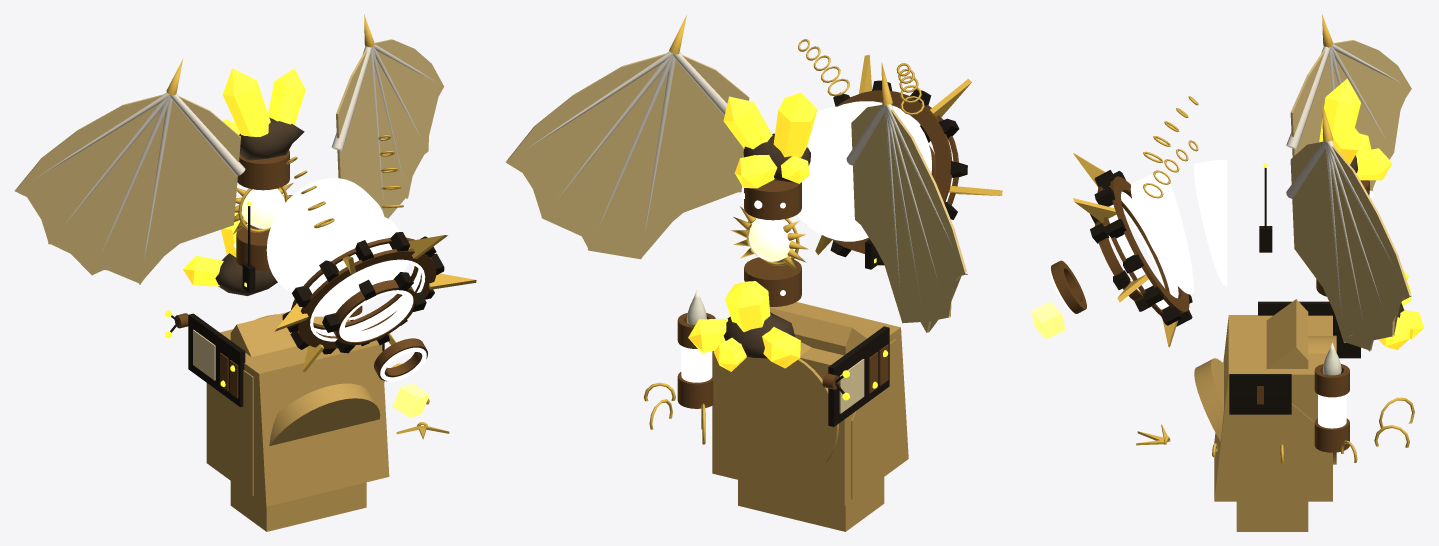
File: SolarGoldMine_Roblox.fbx
3 views of the same model, side by side, from view 1: azimuth 30°, elevation 25°; view 2: azimuth 150°, elevation 25°; view 3: azimuth 270°, elevation 25° (orthographic). The views are drawn at different scales.
Visible parts, largest first — view 1: WingMembrane, Stone, Neon, BronzePlate, Black, WingBone, Crystal, GoldHorn, Rock, SunCore, Ore, Screen; view 2: WingMembrane, Stone, Crystal, BronzePlate, Neon, WingBone, GoldHorn, Black, Rock, SunCore, Screen; view 3: Stone, WingMembrane, Neon, Black, BronzePlate, Crystal, WingBone, GoldHorn, Ore.
Part boxes in pixels (<box>): WingMembrane: <box>15,39,444,284</box>; Stone: <box>206,312,389,531</box>; Neon: <box>233,178,426,381</box>; BronzePlate: <box>174,150,436,398</box>; Black: <box>170,206,444,407</box>; WingBone: <box>14,44,433,284</box>; Crystal: <box>183,68,305,286</box>; GoldHorn: <box>166,14,476,439</box>; Rock: <box>215,117,304,295</box>; SunCore: <box>241,188,285,228</box>; Ore: <box>392,383,429,417</box>; Screen: <box>193,329,215,380</box>; WingMembrane: <box>506,54,967,332</box>; Stone: <box>712,302,908,531</box>; Crystal: <box>688,92,817,371</box>; BronzePlate: <box>677,90,958,408</box>; Neon: <box>681,101,953,382</box>; WingBone: <box>505,51,967,332</box>; GoldHorn: <box>643,15,1002,444</box>; Black: <box>828,80,967,426</box>; Rock: <box>723,133,810,358</box>; SunCore: <box>748,218,796,261</box>; Screen: <box>839,359,864,413</box>; Stone: <box>1194,299,1336,531</box>; WingMembrane: <box>1290,40,1411,351</box>; Neon: <box>1050,160,1373,428</box>; Black: <box>1090,168,1360,414</box>; BronzePlate: <box>1051,176,1369,452</box>; Crystal: <box>1319,78,1424,350</box>; WingBone: <box>1286,44,1411,351</box>; GoldHorn: <box>1073,14,1414,463</box>; Ore: <box>1031,301,1065,339</box>.
Bounding box in the file's own units: 2060 × 2073 × 1641.
